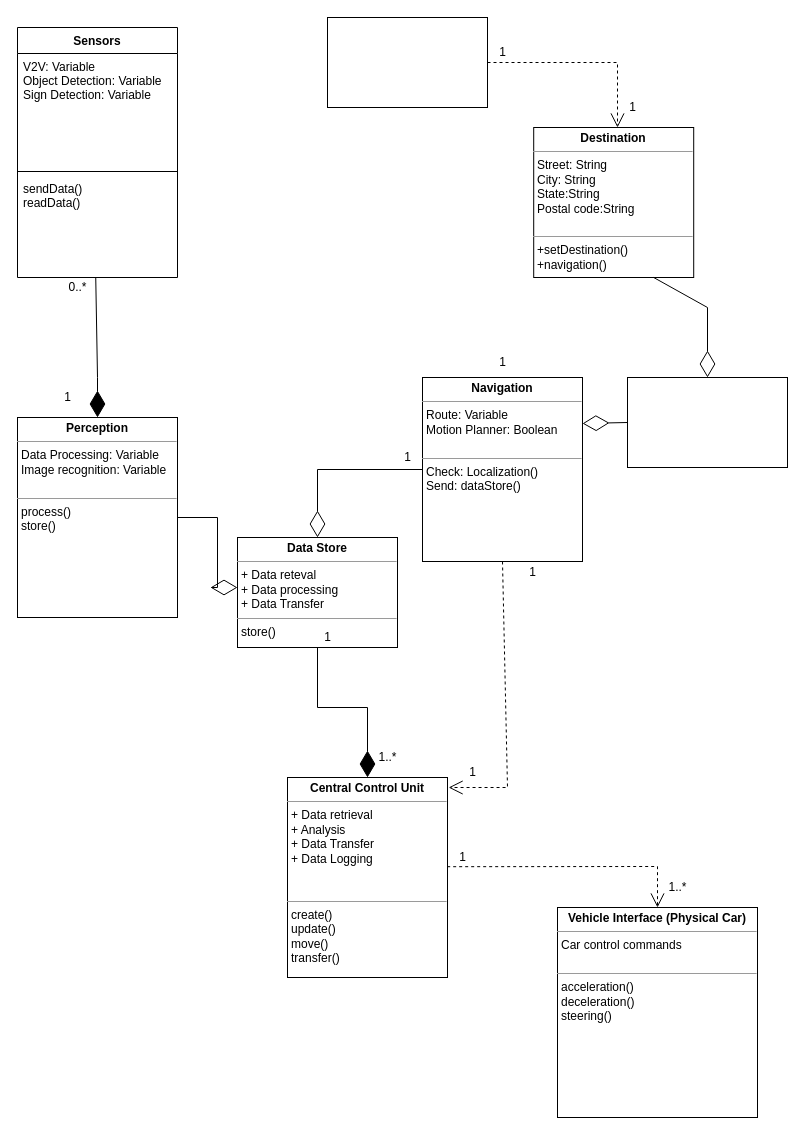
This 805x1135 diagram has some shape labels left out. The centre of each missing label's shape, as x and y in pixels:
"Interface Address: String setDestination()" goes at (407,62).
"Localization Current Location: String getLocation()" goes at (707,422).
